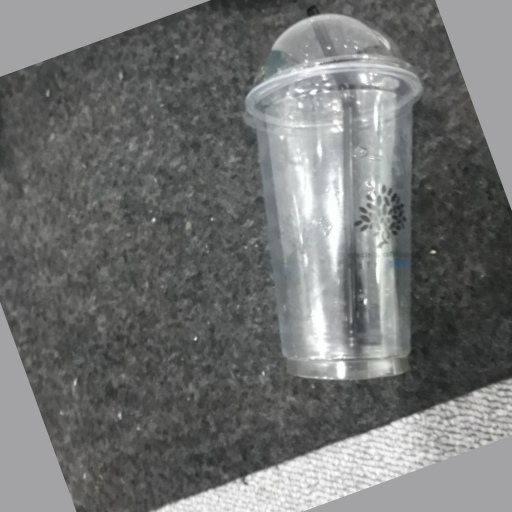Plastic_2: (240, 5, 430, 384)
